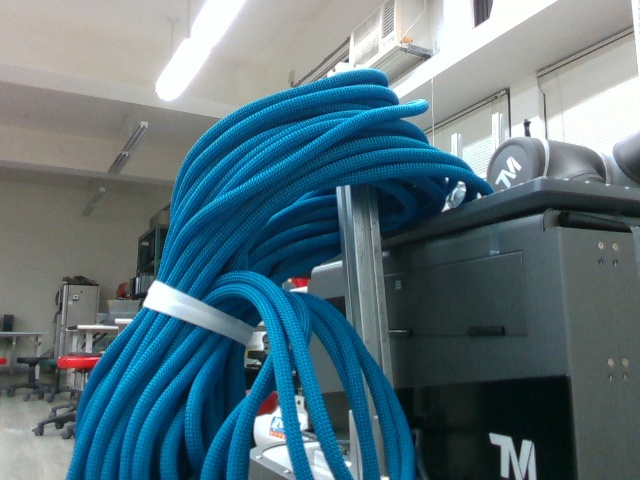rope: (57, 68, 422, 480)
